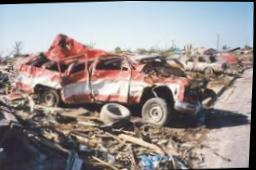Bumper: (186, 82, 213, 112)
Door: (62, 57, 130, 100)
Fender: (140, 74, 182, 103), (21, 67, 57, 91)
